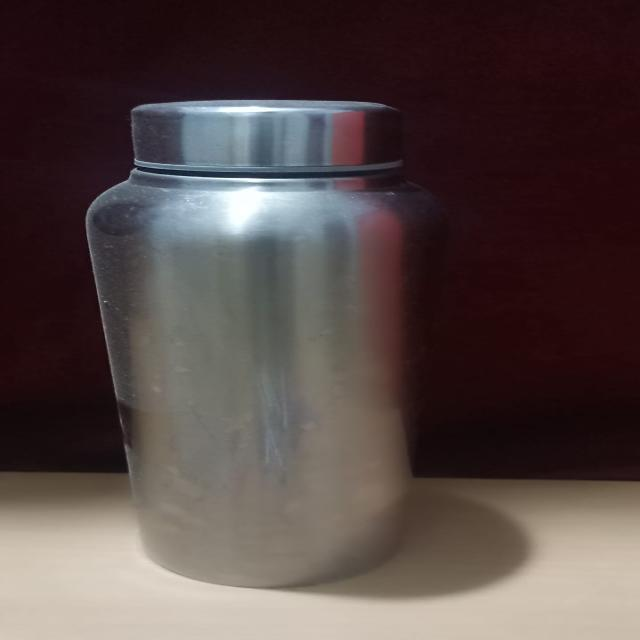bottle: (78, 89, 448, 595)
